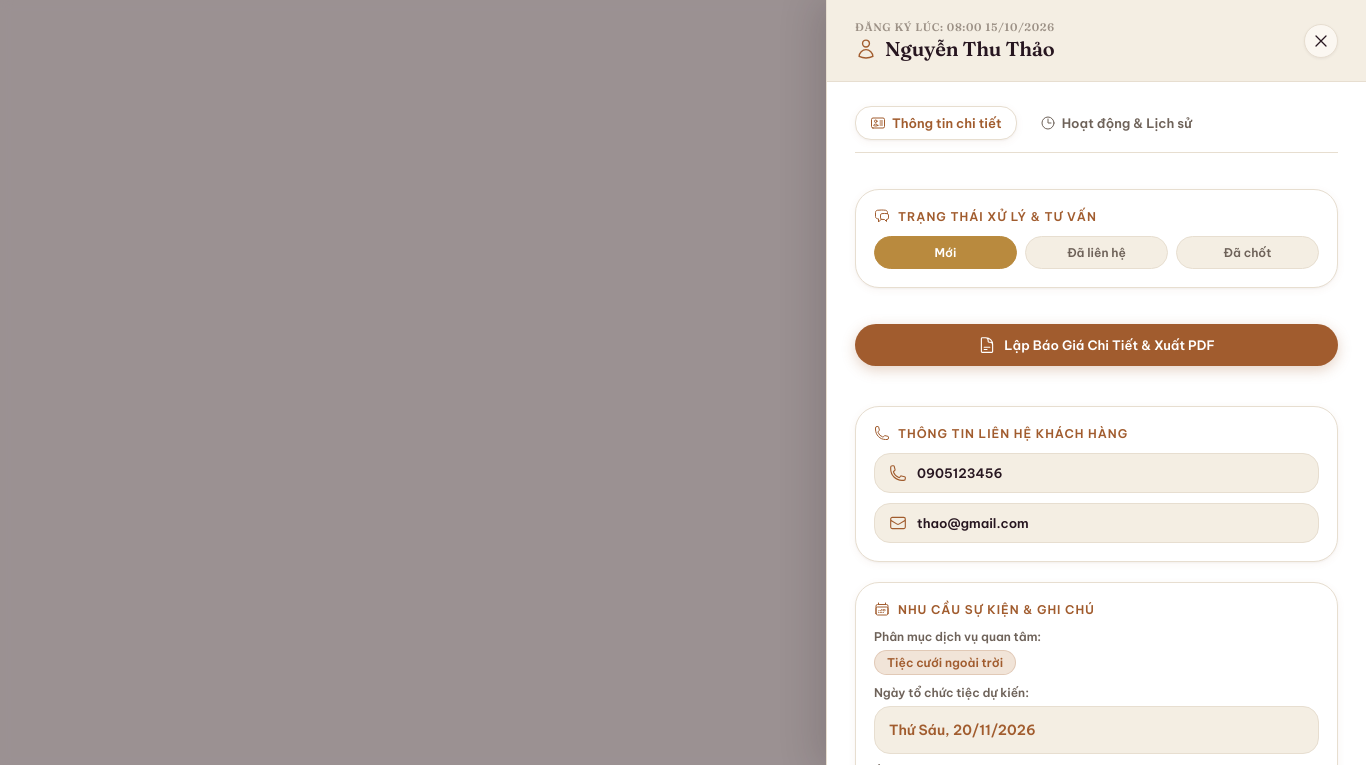
Scenario: LeadDetailDrawer & Activity Timeline › chuyển sang tab Hoạt động và hiển thị timeline lịch sử chăm sóc
Expected: the text "Thông Tin Liên Hệ Khách Hàng" is shown, [874, 425, 1128, 441]
Chuyển sang tab Hoạt động & Lịch sử
Click the tab "Hoạt động & Lịch sử" at (1116, 123), box [1025, 106, 1207, 140]
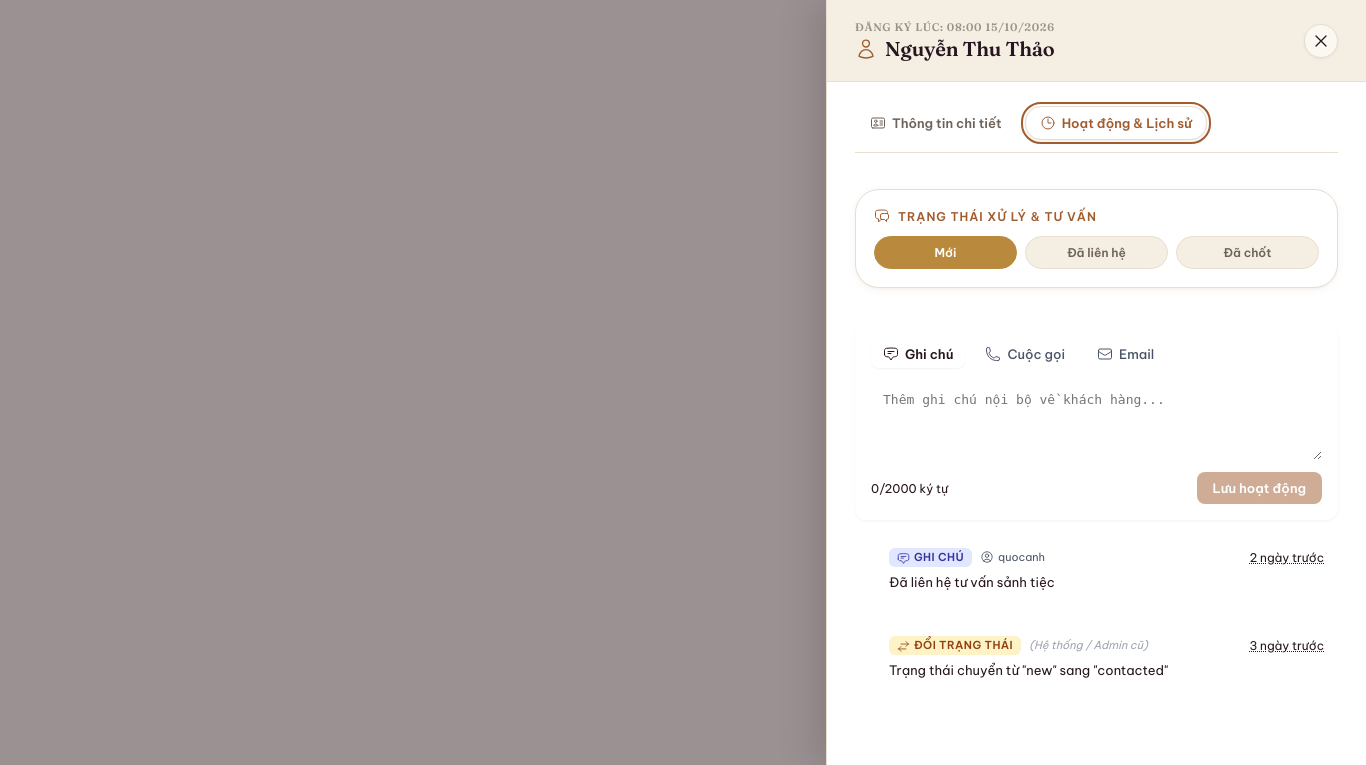
Now the text "Đã liên hệ tư vấn sảnh tiệc" is shown, box [889, 574, 1055, 590]
Now the text "Trạng thái chuyển từ \"new\" sang \"contacted\"" is shown, box [889, 662, 1168, 678]
Now the text "quocanh" is shown, box [980, 550, 1045, 564]
